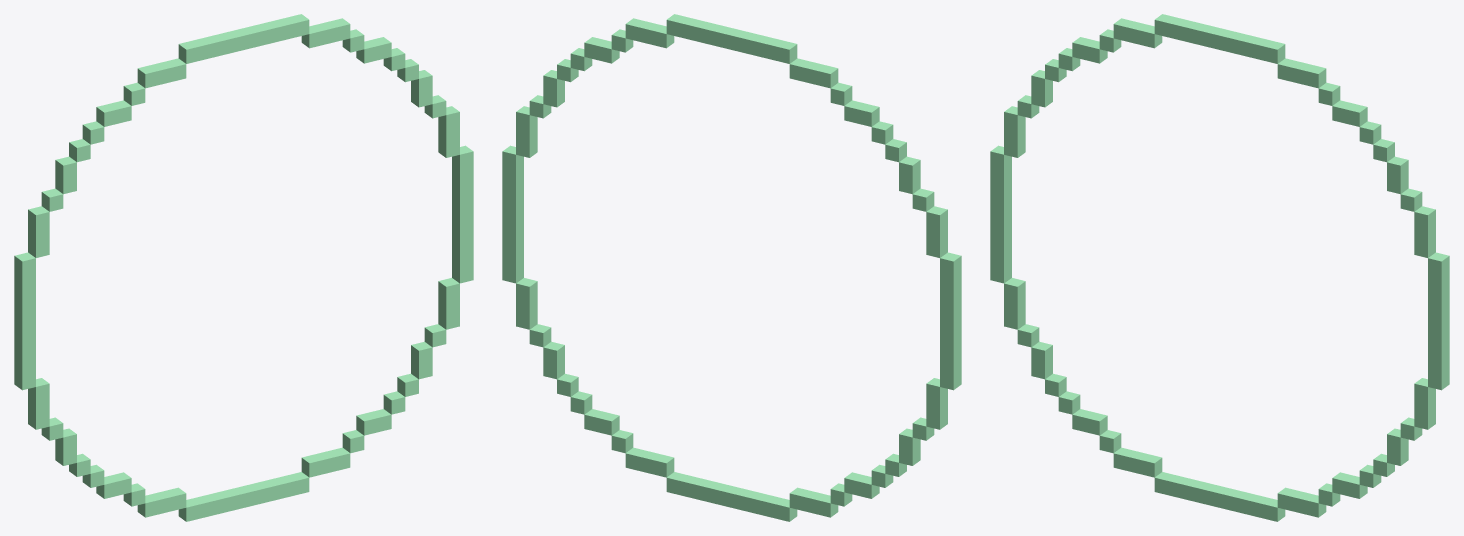
Rendered from Shield.FBX.
3 views of the same model, side by side, from view 1: azimuth 30°, elevation 25°; view 2: azimuth 150°, elevation 25°; view 3: azimuth 330°, elevation 25° (orthographic).
Visible parts, largest first — view 1: model_Shield_obj; view 2: model_Shield_obj; view 3: model_Shield_obj.
Boxes of the visible parts, bbox=[...] form: model_Shield_obj: bbox=[14, 14, 473, 521]; model_Shield_obj: bbox=[502, 14, 961, 521]; model_Shield_obj: bbox=[990, 14, 1449, 521].
Bounding box in the file's own units: 33 × 33 × 1.
1 material, 1 textured.
